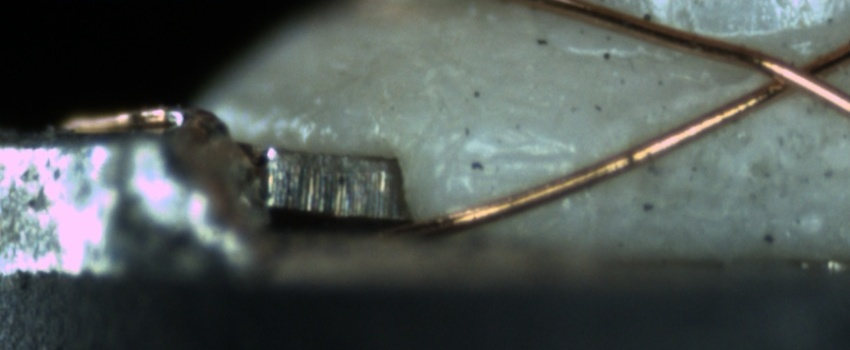CL: (741, 42, 843, 106)
DL: (458, 122, 589, 188)
TE: (56, 100, 206, 134)
